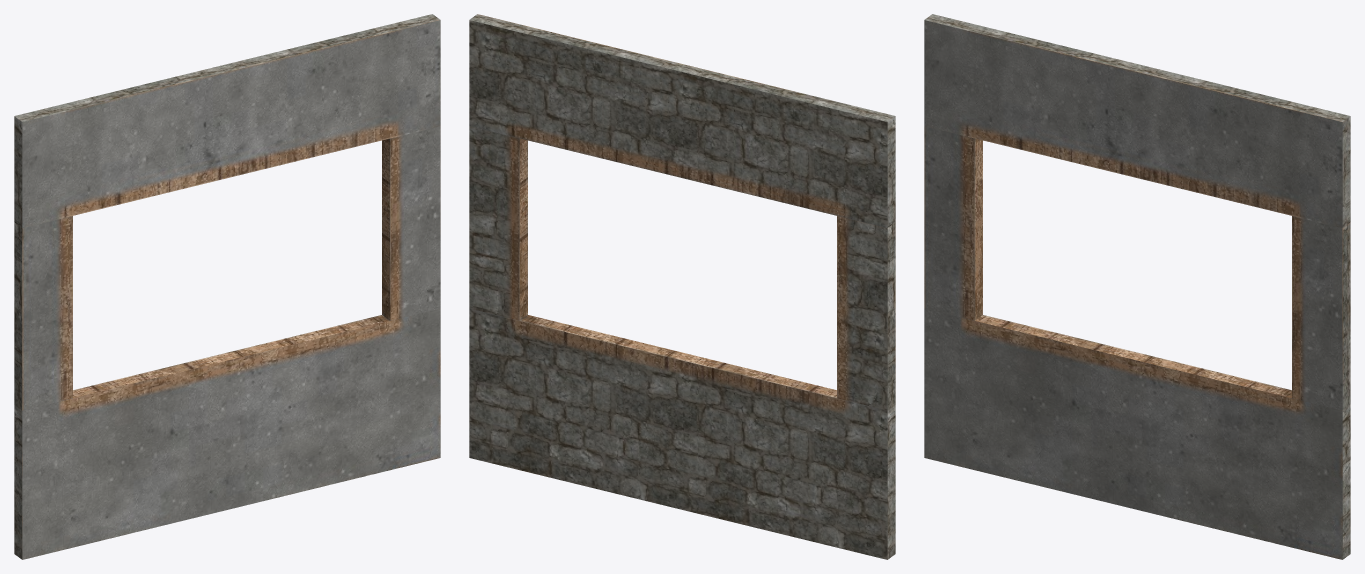
Rendered from stone_window_textured.glb.
3 views of the same model, side by side, from view 1: azimuth 30°, elevation 25°; view 2: azimuth 150°, elevation 25°; view 3: azimuth 330°, elevation 25° (orthographic).
Parts seen in each view (by area): view 1: Cube.002; view 2: Cube.002; view 3: Cube.002.
Boxes of the visible parts, box(x1,y1,x2,y2) form: Cube.002: box(14, 14, 440, 559); Cube.002: box(469, 14, 895, 559); Cube.002: box(924, 14, 1350, 559).
Size of the model in its own units: 2 by 2 by 0.0681.
1 material, 1 textured.
